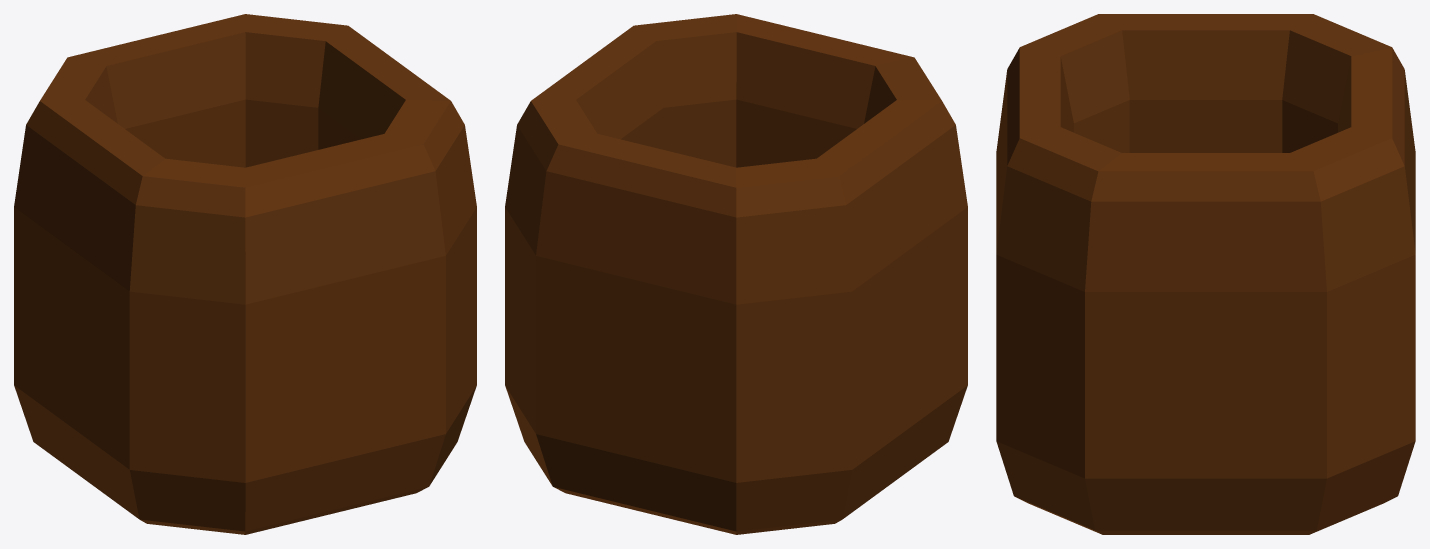
The model's file is FoodBarrel_Greybox.fbx.
3 views of the same model, side by side, from view 1: azimuth 30°, elevation 25°; view 2: azimuth 150°, elevation 25°; view 3: azimuth 270°, elevation 25° (orthographic). The views are drawn at different scales.
Visible parts, largest first — view 1: Barrel; view 2: Barrel; view 3: Barrel.
Boxes of the visible parts, x1=… form: Barrel: x1=14, y1=14, x2=476, y2=534; Barrel: x1=505, y1=14, x2=967, y2=534; Barrel: x1=996, y1=14, x2=1415, y2=534.
Size of the model in its own units: 1.26 by 1.22 by 1.26.
